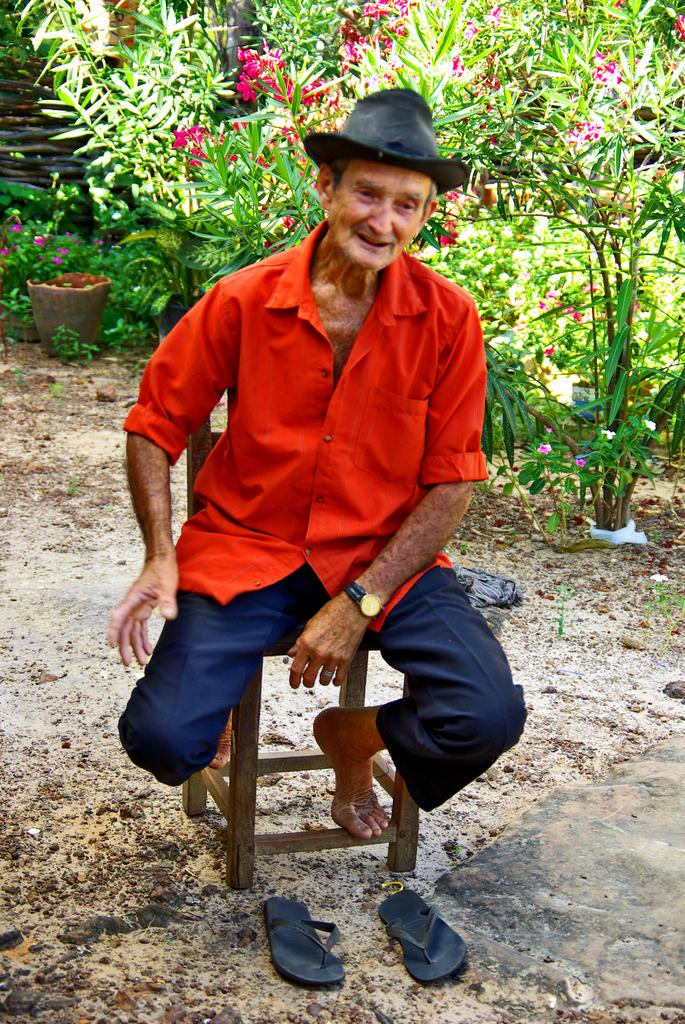Hat: (296, 89, 472, 199)
